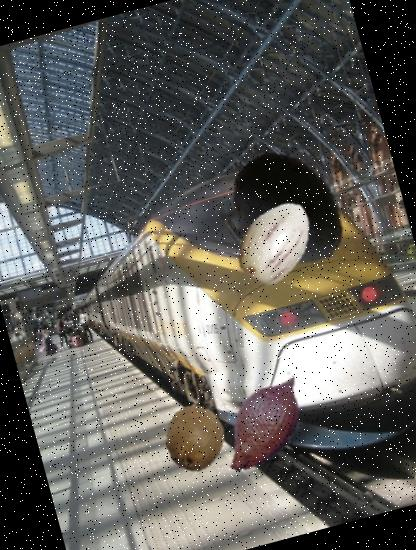Kiwi: (153, 396, 238, 481)
Pepino: (219, 187, 328, 296)
Plum: (212, 135, 366, 289)
Salak: (199, 356, 334, 491)
